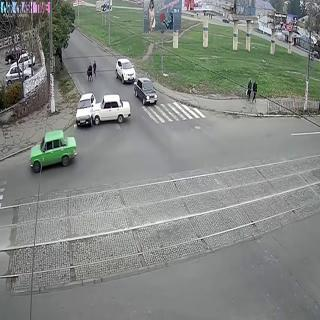Vehicle-Crash_Detected: (73, 92, 133, 131)
